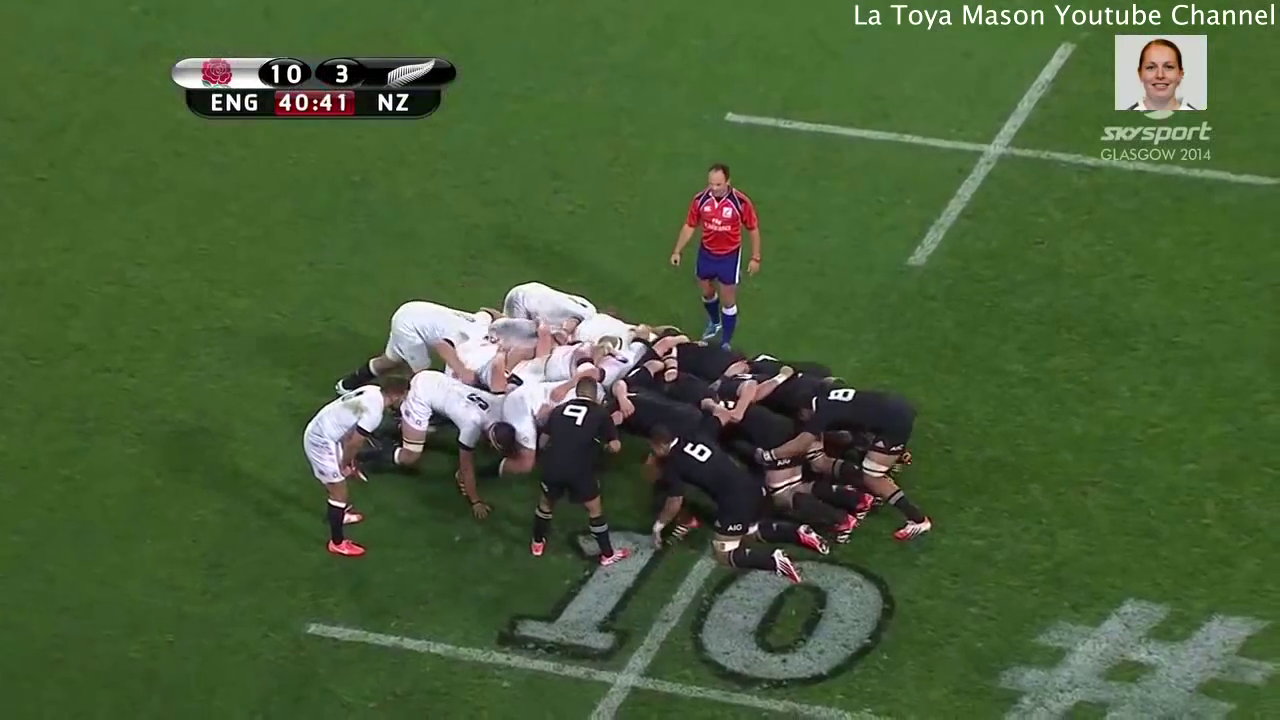player: (297, 368, 415, 565), (811, 382, 950, 541), (666, 161, 764, 346), (644, 430, 772, 569), (528, 371, 617, 562), (344, 365, 496, 471), (361, 293, 458, 358)
scrum: (314, 264, 934, 587)
